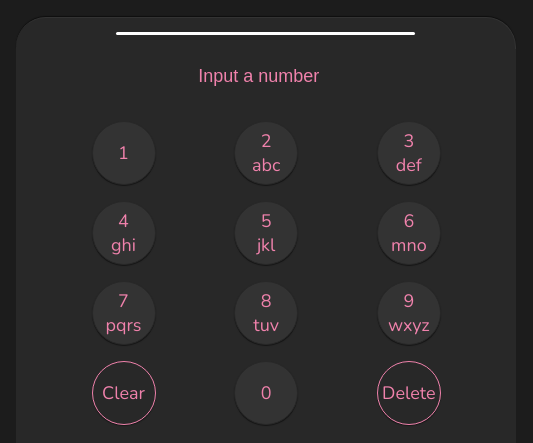
Test: Updates input with the new value
Check: the text "2" is shown, box [261,129,272,153]
Click the button with test id "button-2" at (266, 153), box [234,121,298,185]
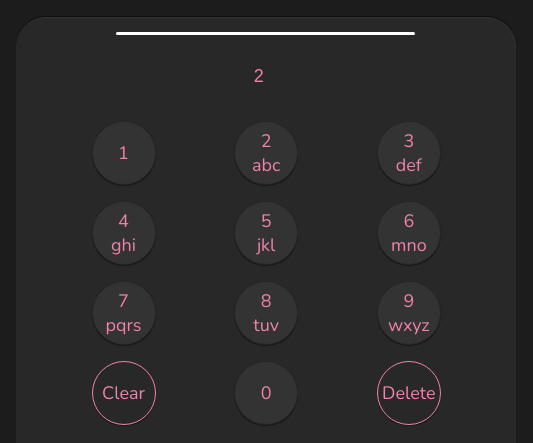
Check: the number field with test id "text-input" holds "2", box [16,49,516,103]
